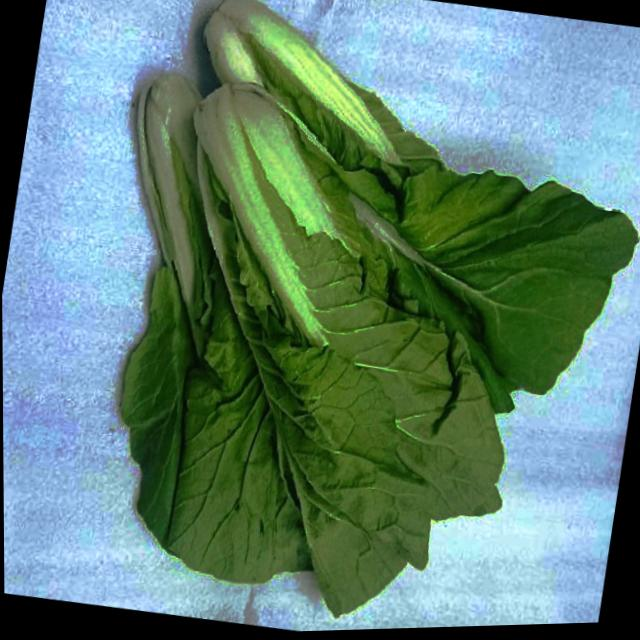chinese_cabbage: (58, 0, 640, 638)
